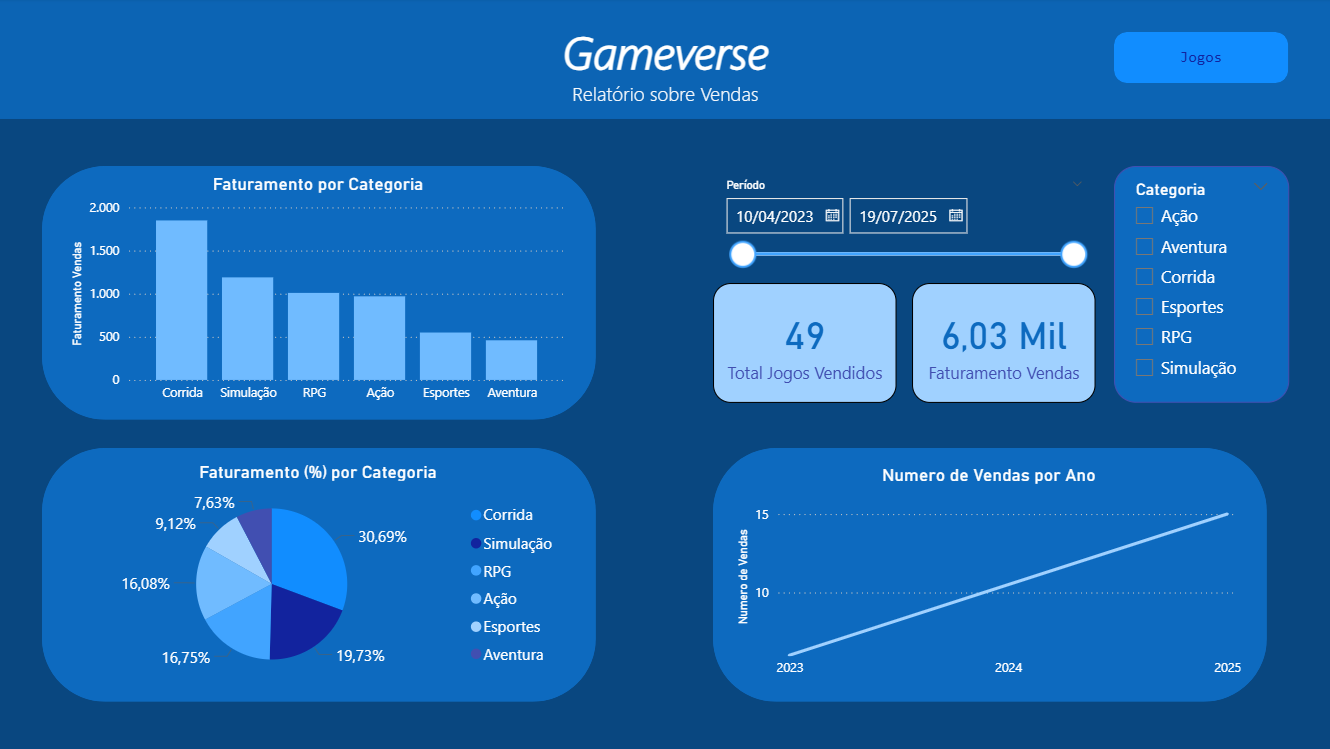

This screenshot's page, from the dashboard's own definition file:
{"tool":"powerbi","page":{"name":"Vendas","canvas":[1280,720],"ordinal":0},"visuals":[{"type":"shape","box":[41.7,431.3,531,243.5],"z":0},{"type":"shape","box":[41.7,161.2,531,243.5],"z":1000},{"type":"textbox","box":[0,0,1280,115.6],"z":2000},{"type":"columnChart","title":"Faturamento por Categoria","fields":{"Y":["Medidas.Faturamento Vendas"],"Category":["Categorias.nome"]},"box":[64.9,168.1,483.5,228.4],"z":3000},{"type":"card","fields":{"Values":["Medidas.Faturamento Vendas"]},"box":[876.5,273.6,176.2,114.8],"z":4000},{"type":"pieChart","title":"Faturamento (%) por Categoria","fields":{"Y":["Medidas.Faturamento Vendas"],"Category":["Categorias.nome"]},"box":[68.4,444.1,477.7,216.8],"z":5000},{"type":"card","fields":{"Values":["Medidas.Total Jogos Vendidos"]},"box":[685.2,273.6,176.2,114.8],"z":6000},{"type":"slicer","fields":{"Values":["Categorias.nome"]},"box":[1070.1,161.2,168.1,227.2],"z":7000},{"type":"shape","box":[685.2,431.3,531,243.5],"z":8000},{"type":"lineChart","fields":{"Category":["Vendas.data_venda.Variation.Hierarquia de datas.Ano"],"Y":["Medidas.Numero de Vendas"]},"box":[703.8,446.4,492.8,213.3],"z":9000},{"type":"slicer","fields":{"Values":["Vendas.data_venda"]},"box":[685.1,167.8,366.9,113.4],"z":10000},{"type":"pageNavigator","box":[1070.4,32.8,167.3,49.8],"z":10001}]}

Visuals, with their boxes in screenshot pixels (x1, y1, x2, y2), scaled from the page's 1280x720 canvas onto the 1330x749 screenshot:
shape: BBox(43, 449, 595, 702)
shape: BBox(43, 168, 595, 421)
textbox: BBox(0, 0, 1329, 120)
"Faturamento por Categoria" columnChart: BBox(67, 175, 570, 412)
card - Medidas.Faturamento Vendas: BBox(911, 285, 1094, 404)
"Faturamento (%) por Categoria" pieChart: BBox(71, 462, 567, 688)
card - Medidas.Total Jogos Vendidos: BBox(712, 285, 895, 404)
slicer - Categorias.nome: BBox(1112, 168, 1287, 404)
shape: BBox(712, 449, 1264, 702)
lineChart - Vendas.data_venda.Variation.Hierarquia de datas.Ano x Medidas.Numero de Vendas: BBox(731, 464, 1243, 686)
slicer - Vendas.data_venda: BBox(712, 175, 1093, 293)
pageNavigator: BBox(1112, 34, 1286, 86)
